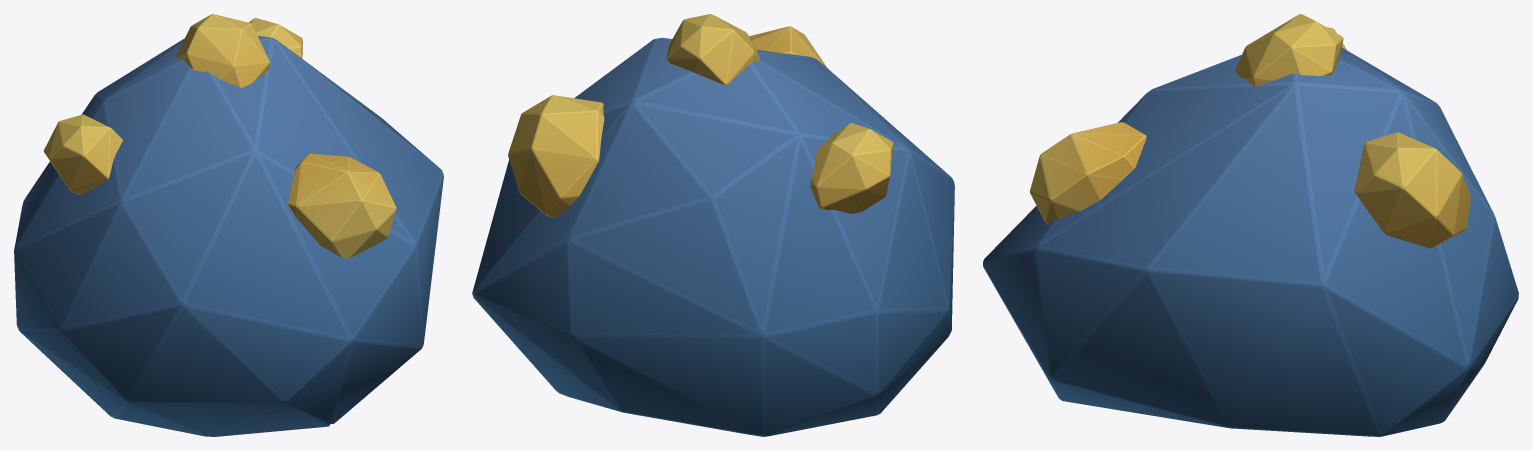
File: Ore_Gold_1.glb
The picture shows the model from 3 angles, left to right: view 1: azimuth 30°, elevation 25°; view 2: azimuth 150°, elevation 25°; view 3: azimuth 270°, elevation 25°; orthographic projection. The views are drawn at different scales.
Parts seen in each view (by area): view 1: Ore_Gold_1; view 2: Ore_Gold_1; view 3: Ore_Gold_1.
Part boxes in pixels (x1,y1,x2,y2): Ore_Gold_1: (14,14,443,436); Ore_Gold_1: (472,14,954,436); Ore_Gold_1: (983,14,1518,436).
Size of the model in its own units: 1.37 by 1.29 by 1.55.
